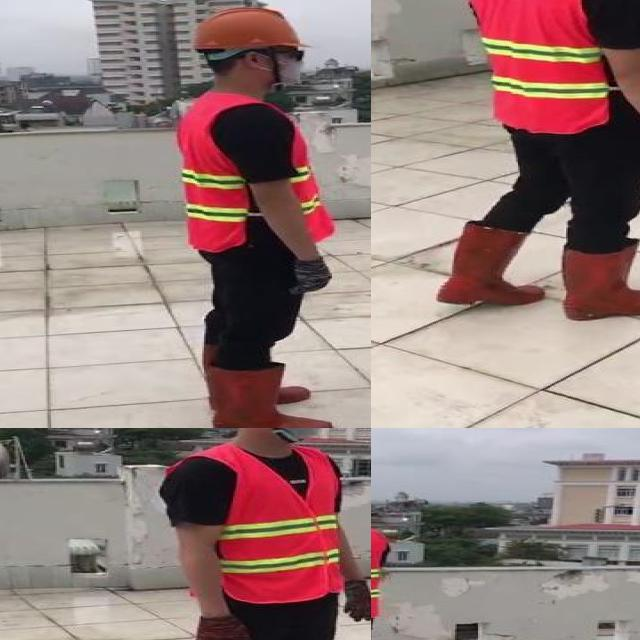boots: (434, 223, 544, 307), (203, 361, 334, 428), (564, 240, 640, 319)
face_mask: (270, 428, 332, 439)
hand_glove: (289, 256, 334, 299), (193, 618, 252, 640), (343, 580, 371, 622)
head_helmet: (192, 5, 300, 50)
person: (163, 0, 349, 428), (414, 0, 640, 335), (150, 428, 371, 640)
vest: (175, 91, 334, 251), (210, 449, 343, 604), (472, 0, 614, 134)
